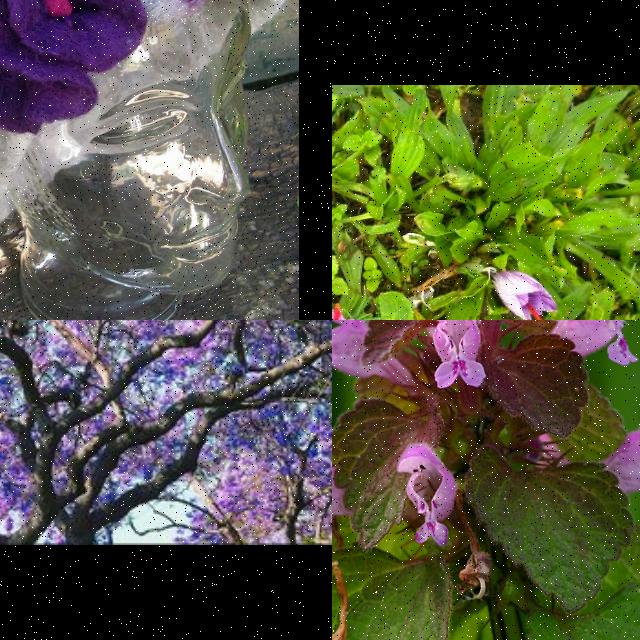flower: (496, 271, 559, 320)
